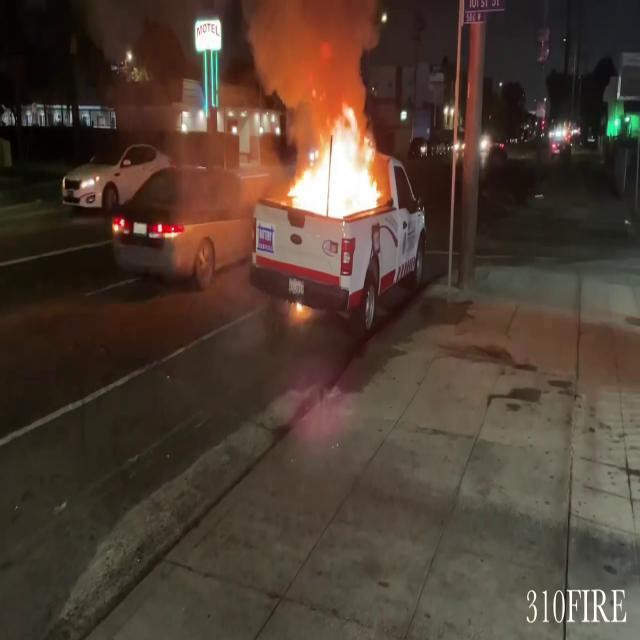Fire: (282, 102, 388, 220)
Smoke: (235, 0, 394, 108)
